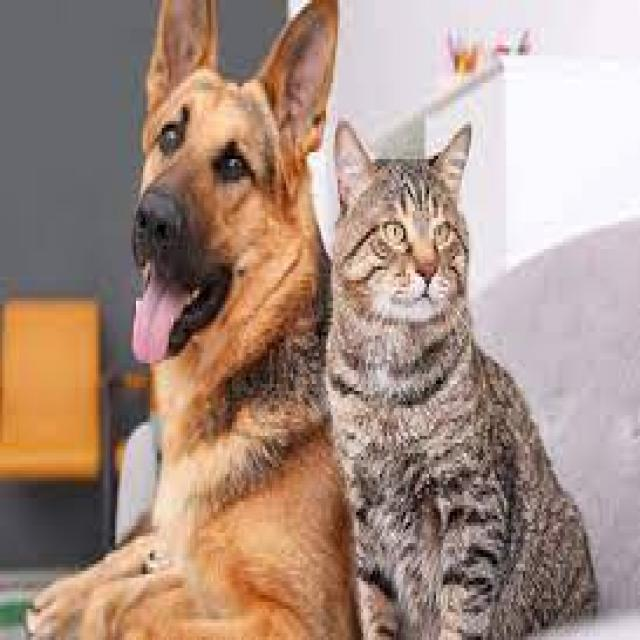cat: (328, 110, 600, 640)
dog: (5, 4, 353, 640)
